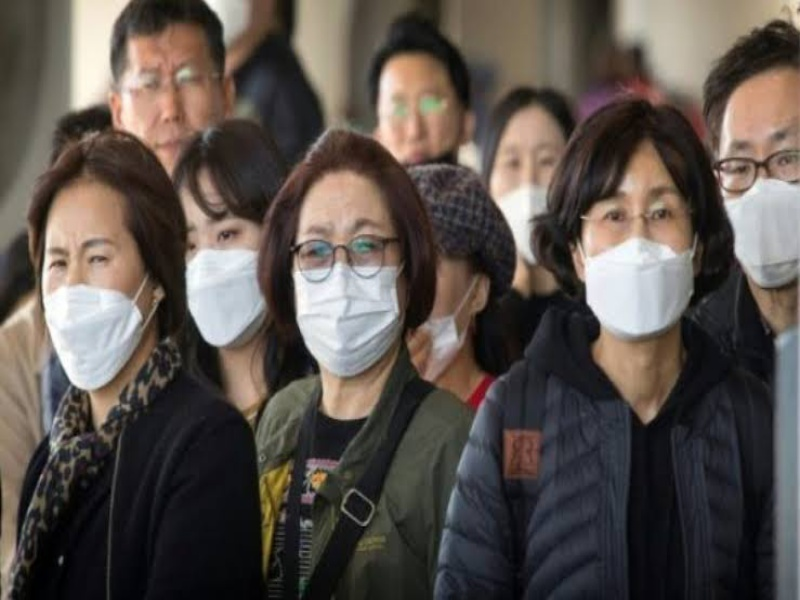ManaoArotava: (280, 158, 418, 399), (19, 177, 161, 401), (570, 131, 703, 357), (700, 47, 800, 316), (167, 158, 287, 364)
TsisyArotava: (98, 7, 236, 186)
